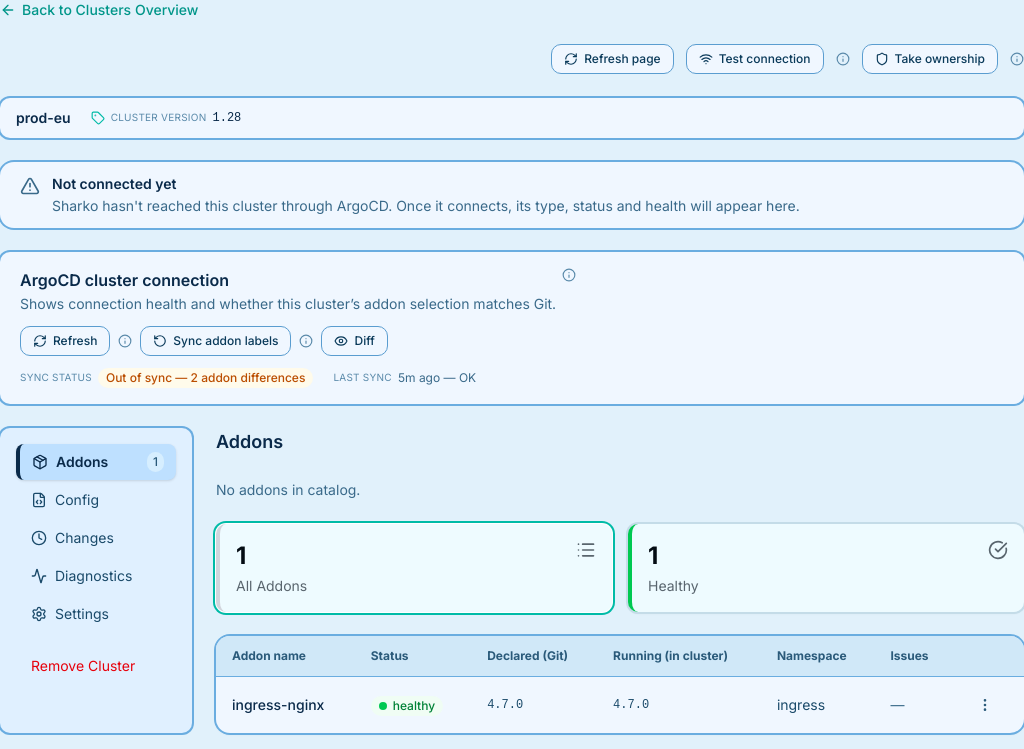
Scenario: ClusterDetail — label drift diff (V3 G2) › shows a plain-words sentence + the raw keys when label_drift.added is populated
Expected: the heading "prod-eu" is shown, [16,108,71,128]
Click the button "Diff" at (355, 341), box [322,326,388,356]
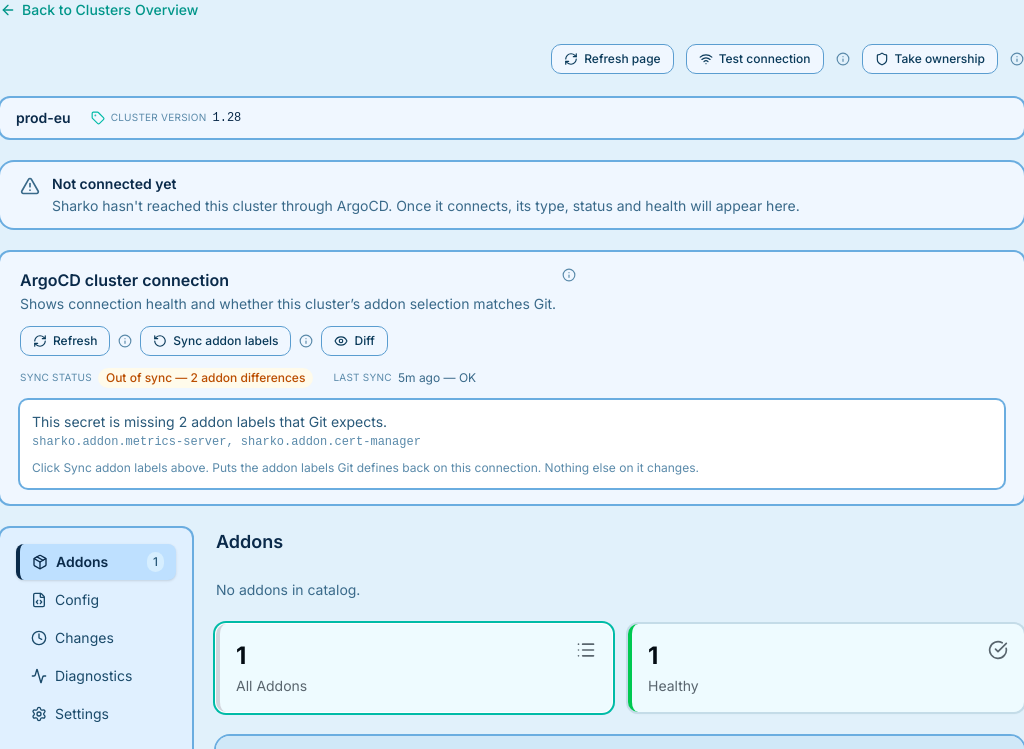
Now the text "This secret is missing 2 addon labels that Git expects." is shown, box [32,413,387,430]
Now the text "sharko.addon.metrics-server, sharko.addon.cert-manager" is shown, box [32,435,421,449]
